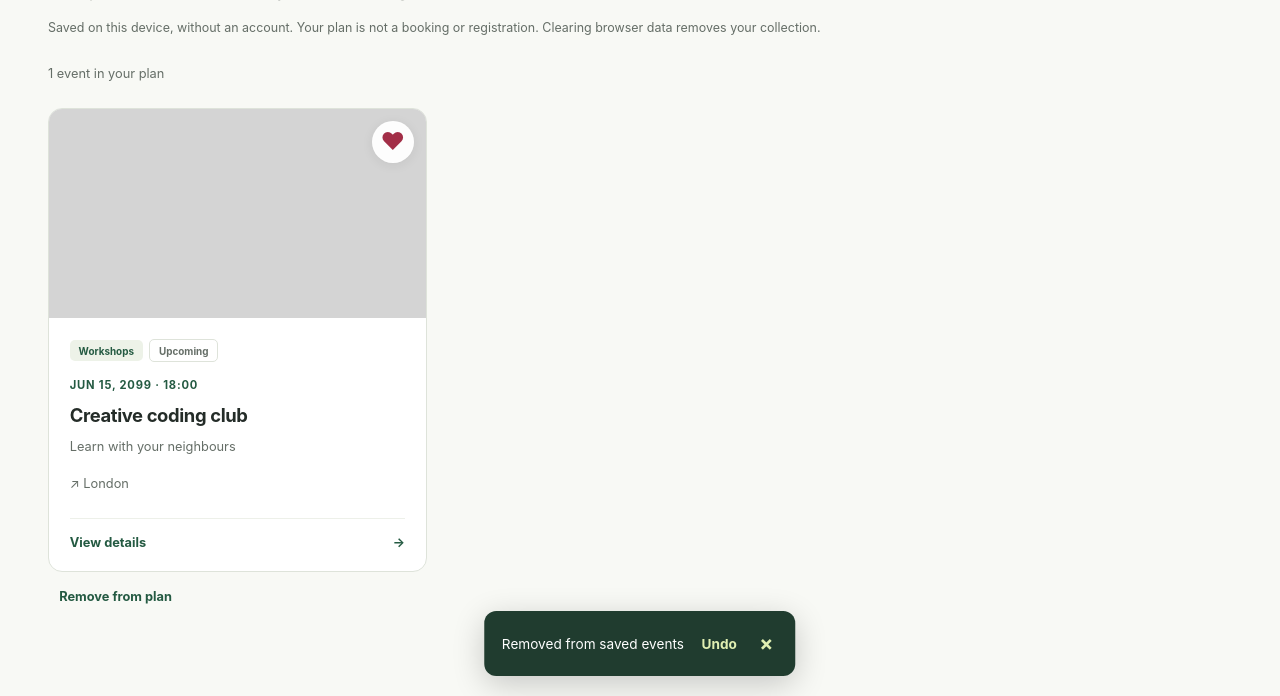
it: personal plan collection removes an event without removing its favourite
(page scrolled)
Check: the heading "Creative coding club" is shown, box [70,404,248,426]
Click the button "Remove from plan".
click(116, 597)  # box [48,578,183,616]
(page scrolled)
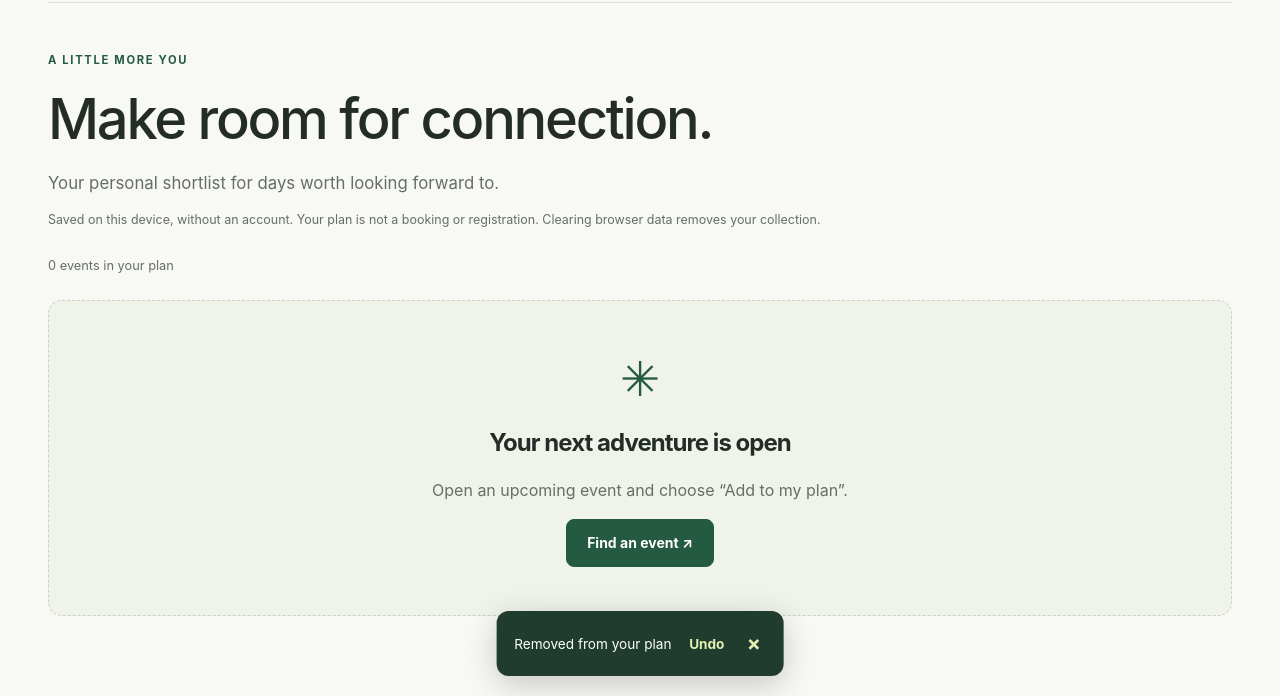
Check: the heading "Your next adventure is open" is shown, box [489,428,791,457]
Click the button "Undo".
click(707, 644)  # box [684,626,729,662]
(page scrolled)
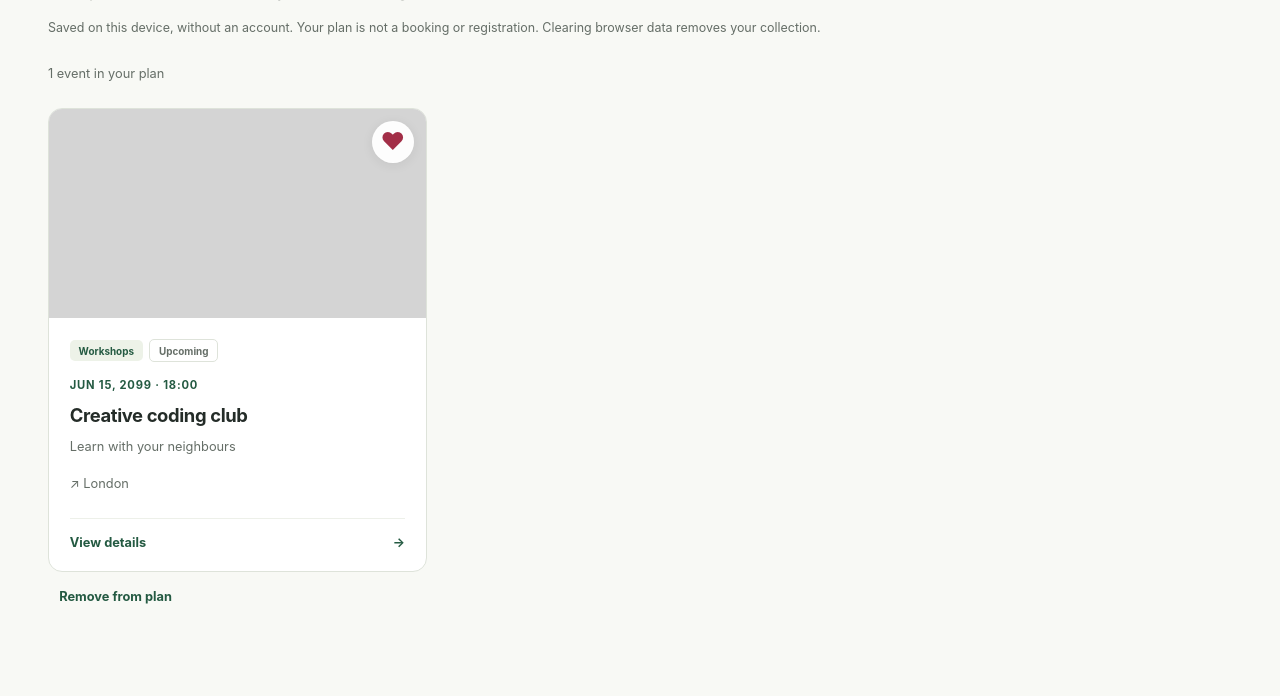
Check: the heading "Creative coding club" is shown, box [70,404,248,426]
